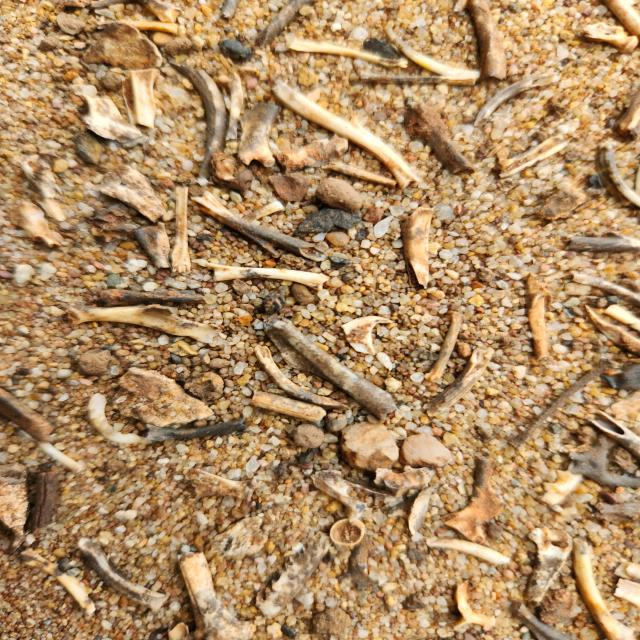fossil: (266, 78, 421, 194), (260, 316, 402, 426), (190, 190, 331, 263), (504, 364, 607, 451), (165, 58, 230, 185), (65, 302, 232, 350), (176, 548, 262, 640), (248, 530, 335, 620), (75, 535, 172, 613), (571, 536, 640, 640), (250, 342, 352, 412), (436, 454, 511, 546), (395, 101, 483, 179), (110, 364, 214, 429), (468, 70, 568, 130), (378, 24, 483, 80), (421, 344, 497, 420), (18, 549, 100, 617), (306, 466, 405, 522), (85, 161, 170, 223), (73, 83, 154, 148), (282, 32, 411, 70), (78, 19, 168, 72), (520, 522, 574, 610), (199, 260, 333, 294), (562, 432, 640, 489), (16, 457, 69, 536), (461, 0, 511, 83), (492, 131, 578, 179), (8, 421, 84, 475), (176, 462, 264, 508), (18, 153, 72, 224), (396, 205, 440, 291), (592, 136, 640, 212), (233, 99, 285, 168), (0, 459, 36, 556), (0, 388, 59, 446), (139, 414, 252, 444), (251, 0, 320, 49), (439, 578, 504, 630), (84, 391, 142, 449), (113, 64, 162, 132), (422, 309, 467, 383), (565, 268, 640, 312), (581, 301, 640, 356), (520, 272, 556, 362), (7, 199, 67, 253), (422, 537, 515, 571), (582, 409, 640, 462), (271, 135, 352, 172), (90, 285, 213, 309), (533, 461, 589, 511), (405, 483, 444, 552), (128, 218, 176, 272), (338, 314, 395, 357), (508, 602, 572, 640), (370, 462, 439, 497), (572, 21, 640, 55), (321, 160, 400, 189), (170, 185, 193, 283), (560, 230, 640, 258), (344, 72, 482, 88), (93, 16, 188, 39), (205, 149, 254, 193), (220, 70, 247, 148), (538, 186, 590, 226), (324, 515, 373, 557), (266, 168, 319, 204), (88, 199, 144, 233), (178, 368, 228, 402), (72, 346, 126, 376), (588, 498, 640, 528), (600, 0, 640, 39), (614, 84, 640, 142), (236, 198, 286, 224), (84, 219, 135, 244), (604, 387, 640, 421), (601, 303, 640, 333), (144, 0, 191, 24), (83, 0, 156, 13), (607, 576, 640, 604), (609, 556, 640, 580), (217, 0, 243, 20)
